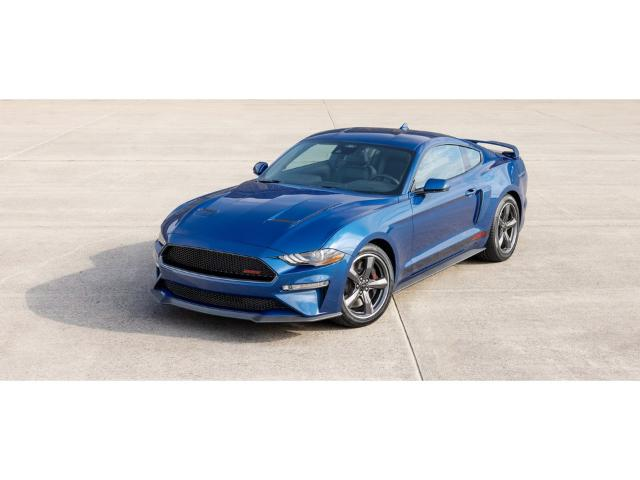ford-mustang: (150, 125, 528, 327)
